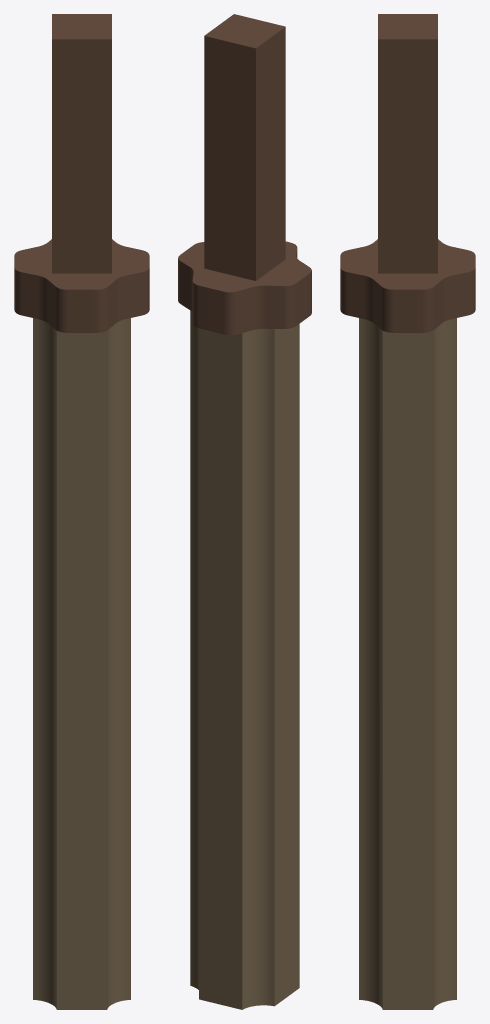
3 views of the same model, side by side, from view 1: azimuth 90°, elevation 25°; view 2: azimuth 150°, elevation 25°; view 3: azimuth 270°, elevation 25° (orthographic).
Visible parts, largest first — view 1: pCube6; view 2: pCube6; view 3: pCube6.
Boxes of the visible parts, x1,y1,x2,y2 form: pCube6: (14, 14, 149, 1009); pCube6: (178, 14, 311, 1009); pCube6: (340, 14, 475, 1009).
Size of the model in its own units: 12.41 by 97.65 by 12.41.
